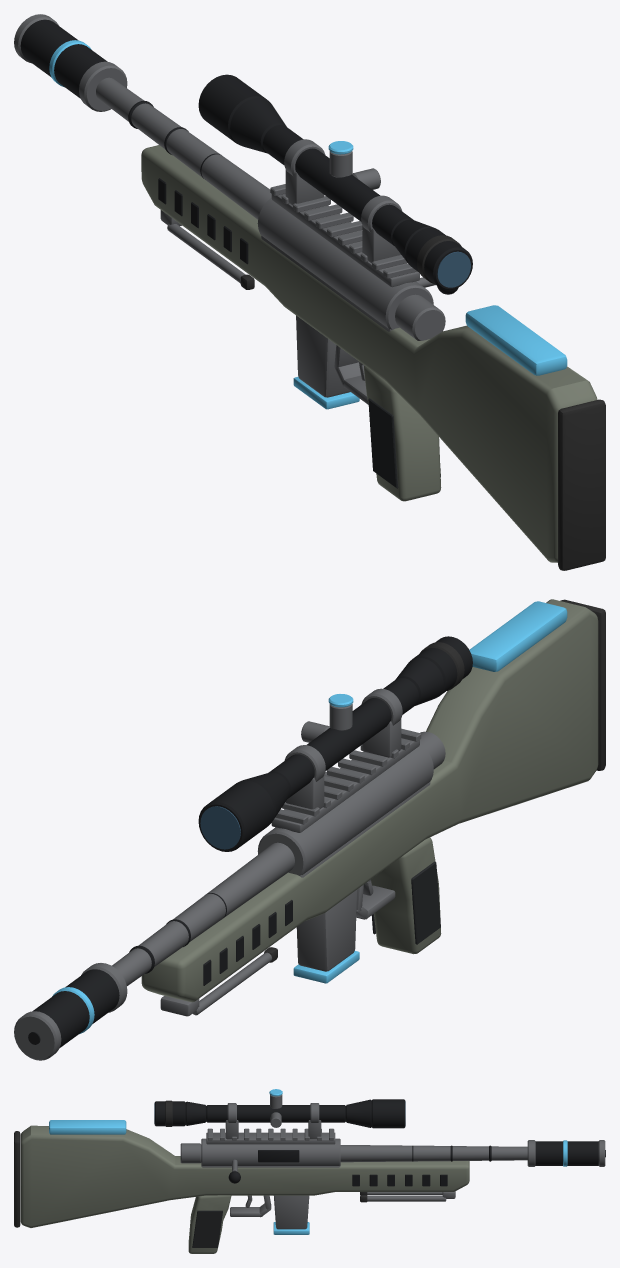
File: PrecisionRifle.fbx
The picture shows the model from 3 angles, top to bottom: view 1: azimuth 30°, elevation 25°; view 2: azimuth 150°, elevation 25°; view 3: azimuth 270°, elevation 25°; orthographic projection. The views are drawn at different scales.
Visible parts, largest first — view 1: Stock Chassis, Butt Pad, Receiver, Barrel, Pistol Grip, Scope Tube, Cheek Riser, Suppressor Body, Magazine, Scope Objective Bell, Scope Objective Taper, Grip Texture Panel -1 (+9 smaller); view 2: Stock Chassis, Receiver, Barrel, Scope Tube, Pistol Grip, Cheek Riser, Magazine, Suppressor Body, Scope Objective Bell, Grip Texture Panel -1, Suppressor End Cap, Scope Rail Base (+10 smaller); view 3: Stock Chassis, Barrel, Receiver, Scope Tube, Suppressor Body, Magazine, Scope Rail Base, Cheek Riser, Scope Objective Bell, Pistol Grip, Grip Texture Panel 1, Butt Pad (+10 smaller).
Boxes of the visible parts, bbox=[...] form: Stock Chassis: bbox=[141, 145, 597, 562]; Butt Pad: bbox=[558, 399, 605, 570]; Receiver: bbox=[257, 197, 433, 329]; Barrel: bbox=[96, 77, 271, 219]; Pistol Grip: bbox=[364, 365, 441, 501]; Scope Tube: bbox=[263, 125, 413, 245]; Cheek Riser: bbox=[465, 305, 567, 375]; Suppressor Body: bbox=[20, 19, 107, 98]; Magazine: bbox=[296, 315, 350, 397]; Scope Objective Bell: bbox=[198, 74, 269, 143]; Scope Objective Taper: bbox=[230, 98, 286, 153]; Grip Texture Panel -1: bbox=[368, 398, 398, 488]; Stock Chassis: bbox=[141, 599, 598, 1002]; Receiver: bbox=[257, 743, 433, 875]; Barrel: bbox=[112, 842, 294, 985]; Scope Tube: bbox=[268, 678, 418, 798]; Pistol Grip: bbox=[371, 837, 441, 954]; Cheek Riser: bbox=[469, 601, 567, 671]; Magazine: bbox=[296, 889, 357, 971]; Suppressor Body: bbox=[32, 969, 119, 1047]; Scope Objective Bell: bbox=[198, 780, 274, 851]; Grip Texture Panel -1: bbox=[411, 861, 440, 944]; Suppressor End Cap: bbox=[14, 1011, 61, 1060]; Scope Rail Base: bbox=[271, 738, 419, 832]; Stock Chassis: bbox=[20, 1125, 469, 1227]; Barrel: bbox=[340, 1145, 527, 1162]; Receiver: bbox=[201, 1138, 340, 1165]; Scope Tube: bbox=[206, 1105, 345, 1122]; Suppressor Body: bbox=[535, 1141, 598, 1165]; Magazine: bbox=[274, 1195, 309, 1229]; Scope Rail Base: bbox=[206, 1132, 335, 1144]; Cheek Riser: bbox=[49, 1120, 126, 1134]; Scope Objective Bell: bbox=[371, 1099, 405, 1128]; Pistol Grip: bbox=[188, 1195, 231, 1253]; Grip Texture Panel 1: bbox=[192, 1210, 222, 1247]; Butt Pad: bbox=[14, 1131, 20, 1227].
Bounding box in the file's own units: 0.247 × 0.675 × 2.29.
